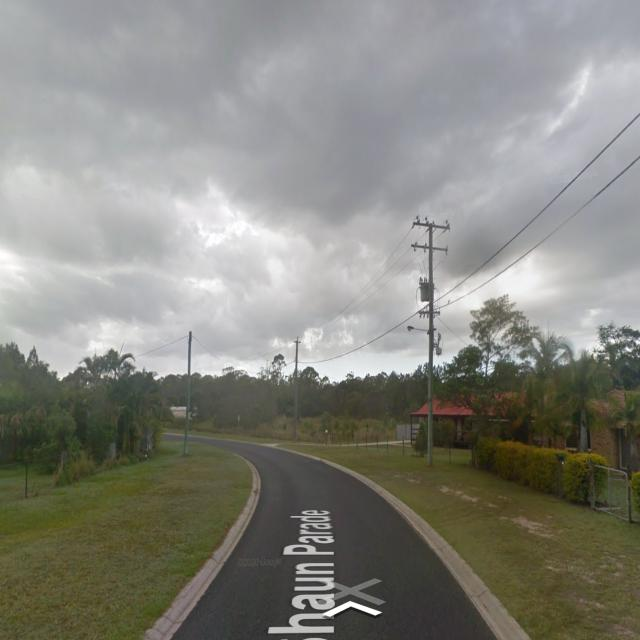HV-transmission: (410, 214, 450, 258)
crossarm: (413, 222, 451, 230), (411, 244, 448, 251), (419, 310, 441, 315), (294, 336, 301, 344)
streetlight: (406, 325, 431, 335)
timber-pole: (426, 223, 434, 469), (183, 330, 192, 456), (294, 341, 298, 443)
transformer: (418, 276, 434, 302)
